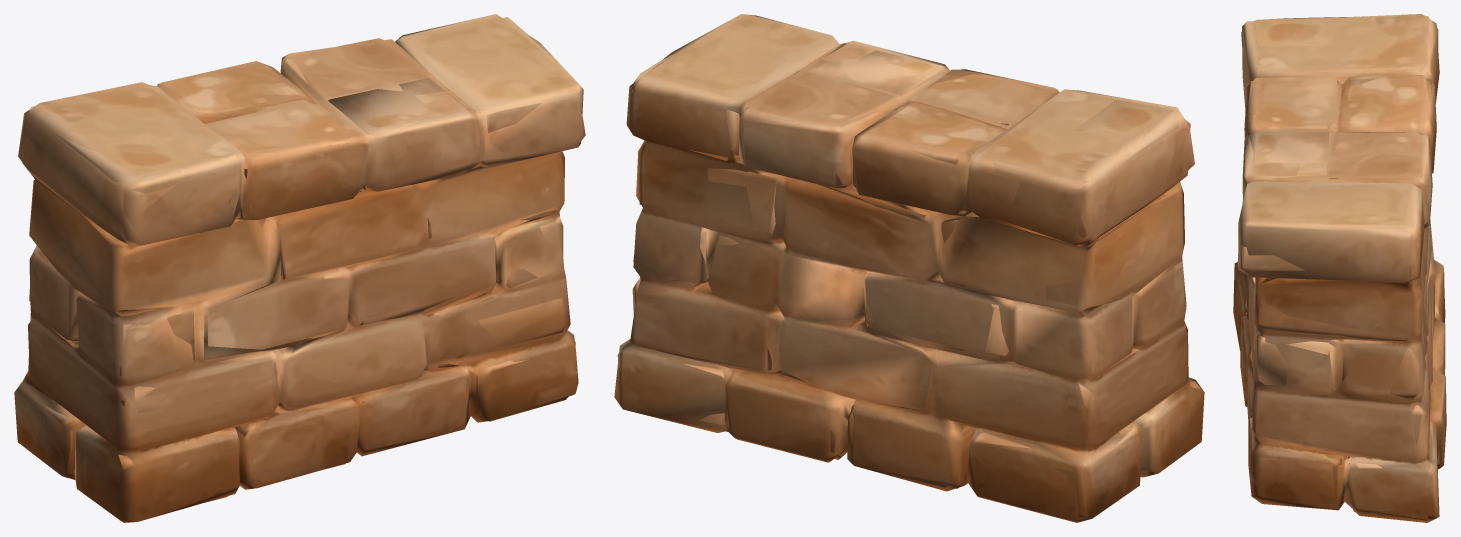
Rendered from shrine-wall.glb.
3 views of the same model, side by side, from view 1: azimuth 30°, elevation 25°; view 2: azimuth 150°, elevation 25°; view 3: azimuth 270°, elevation 25° (orthographic). The views are drawn at different scales.
Bounding box in the file's own units: 2 × 1.35 × 0.8514.
Materials: 1 (1 with a texture image).
